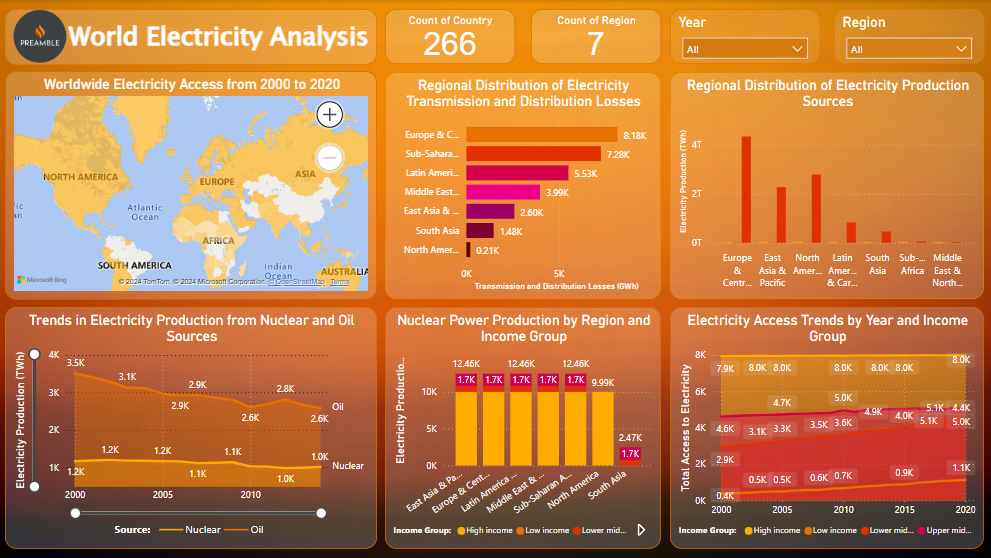

The page's visual inventory and layout, read from the dashboard file:
{"tool":"powerbi","page":{"name":"Dashboard","canvas":[1280,720],"ordinal":0},"visuals":[{"type":"slicer","title":"Region","fields":{"Values":["preamble_pytorch metadata_country.Region"]},"box":[1077.4,11.6,193.5,71],"z":0},{"type":"slicer","title":"Year","fields":{"Values":["DateTable.Year"]},"box":[865.8,11.6,193.5,71],"z":1000},{"type":"card","title":"Count of Country","fields":{"Values":["Count(preamble_pytorch_insights electricity_production_sources_proportions.Country Name)"]},"box":[498.1,11.6,167.7,71],"z":2000},{"type":"lineChart","title":"Trends in Electricity Production from Nuclear and Oil Sources","fields":{"Category":["DateTable.Year"],"Y":["Sum(preamble_pytorch_insights combined_electricity_production_2000_2014.Production)"],"Series":["preamble_pytorch_insights combined_electricity_production_2000_2014.Source"]},"box":[7.7,396.1,480,312.3],"z":3000},{"type":"filledMap","title":"Worldwide Electricity Access from 2000 to 2020","fields":{"Category":["preamble_pytorch_insights access_to_electricity_2000_2021.Country Name"]},"box":[8.3,92.2,480.3,294.5],"z":4000},{"type":"areaChart","title":"Electricity Access Trends by Year and Income Group","fields":{"Category":["DateTable.Year"],"Y":["Sum(preamble_pytorch_insights total_access_to_electricity_by_region_income.Total Access to Electricity)"],"Series":["preamble_pytorch_insights total_access_to_electricity_by_region_income.IncomeGroup"]},"box":[865.8,396.1,405.2,312.3],"z":5000},{"type":"textbox","box":[8.3,11,480.3,71.6],"z":6000},{"type":"clusteredColumnChart","title":"Regional Distribution of Electricity Production Sources","fields":{"Category":["preamble_pytorch_insights electricity_production_sources_proportions.Region"],"Y":["Sum(preamble_pytorch_insights electricity_production_sources_proportions.Nuclear Production)","Sum(preamble_pytorch_insights electricity_production_sources_proportions.Oil Production)","Sum(preamble_pytorch_insights electricity_production_sources_proportions.Renewable Production)"]},"box":[866,93.5,405.4,293.4],"z":7000},{"type":"columnChart","title":"Nuclear Power Production by Region and Income Group","fields":{"Y":["Divide(Sum(preamble_pytorch_insights aggregated_nuclear_power_production_2000_2015_long.NuclearPowerProduction), ScopedE"],"Series":["preamble_pytorch_insights aggregated_nuclear_power_production_2000_2015_long.IncomeGroup"],"Category":["preamble_pytorch metadata_country.Region"]},"box":[498.1,396.1,356.1,312.3],"z":8000},{"type":"image","box":[7.7,3.9,89,86.5],"z":9000},{"type":"card","title":"Count of Region","fields":{"Values":["Count(preamble_pytorch metadata_country.Region)"]},"box":[686.5,11.6,167.7,71],"z":10000},{"type":"barChart","title":"Regional Distribution of Electricity Transmission and Distribution Losses","fields":{"Category":["preamble_pytorch_insights electricity_transmission_distribution_losses.Region"],"Y":["Sum(preamble_pytorch_insights electricity_transmission_distribution_losses.Transmission and Distribution Losses)"],"Series":["preamble_pytorch_insights electricity_transmission_distribution_losses.Region"]},"box":[497.5,93.5,355.7,293.4],"z":11000}]}

Visuals, with their boxes in screenshot pixels (x1, y1, x2, y2), scaled from the page's 1280x720 canvas onto the 991x558 screenshot:
"Region" slicer: {"left": 834, "top": 9, "right": 984, "bottom": 64}
"Year" slicer: {"left": 670, "top": 9, "right": 820, "bottom": 64}
"Count of Country" card: {"left": 386, "top": 9, "right": 515, "bottom": 64}
"Trends in Electricity Production from Nuclear and Oil Sources" lineChart: {"left": 6, "top": 307, "right": 378, "bottom": 549}
"Worldwide Electricity Access from 2000 to 2020" filledMap: {"left": 6, "top": 71, "right": 378, "bottom": 300}
"Electricity Access Trends by Year and Income Group" areaChart: {"left": 670, "top": 307, "right": 984, "bottom": 549}
textbox: {"left": 6, "top": 9, "right": 378, "bottom": 64}
"Regional Distribution of Electricity Production Sources" clusteredColumnChart: {"left": 670, "top": 72, "right": 984, "bottom": 300}
"Nuclear Power Production by Region and Income Group" columnChart: {"left": 386, "top": 307, "right": 661, "bottom": 549}
image: {"left": 6, "top": 3, "right": 75, "bottom": 70}
"Count of Region" card: {"left": 532, "top": 9, "right": 661, "bottom": 64}
"Regional Distribution of Electricity Transmission and Distribution Losses" barChart: {"left": 385, "top": 72, "right": 661, "bottom": 300}
